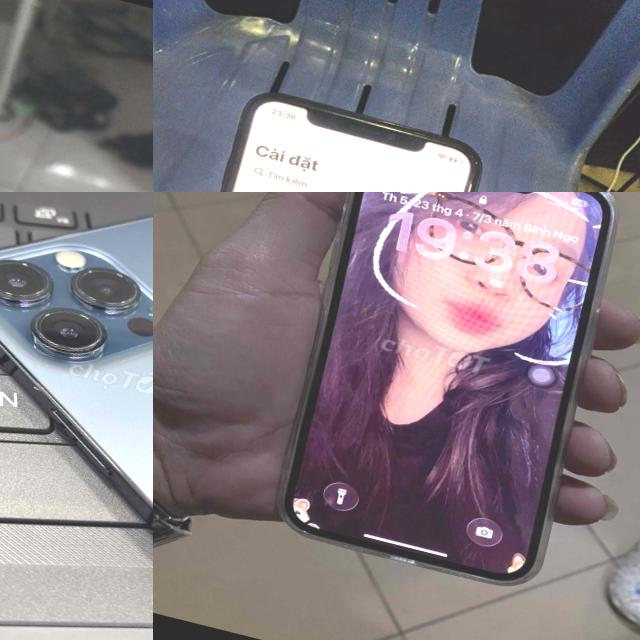gen_12_13: (264, 192, 638, 607), (0, 192, 153, 640)
gen_x_xs: (153, 82, 484, 192)
